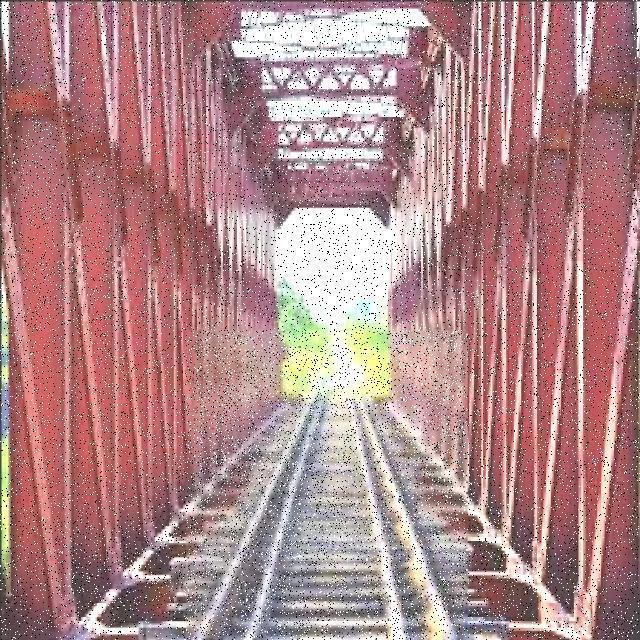rail: (188, 332, 466, 639)
